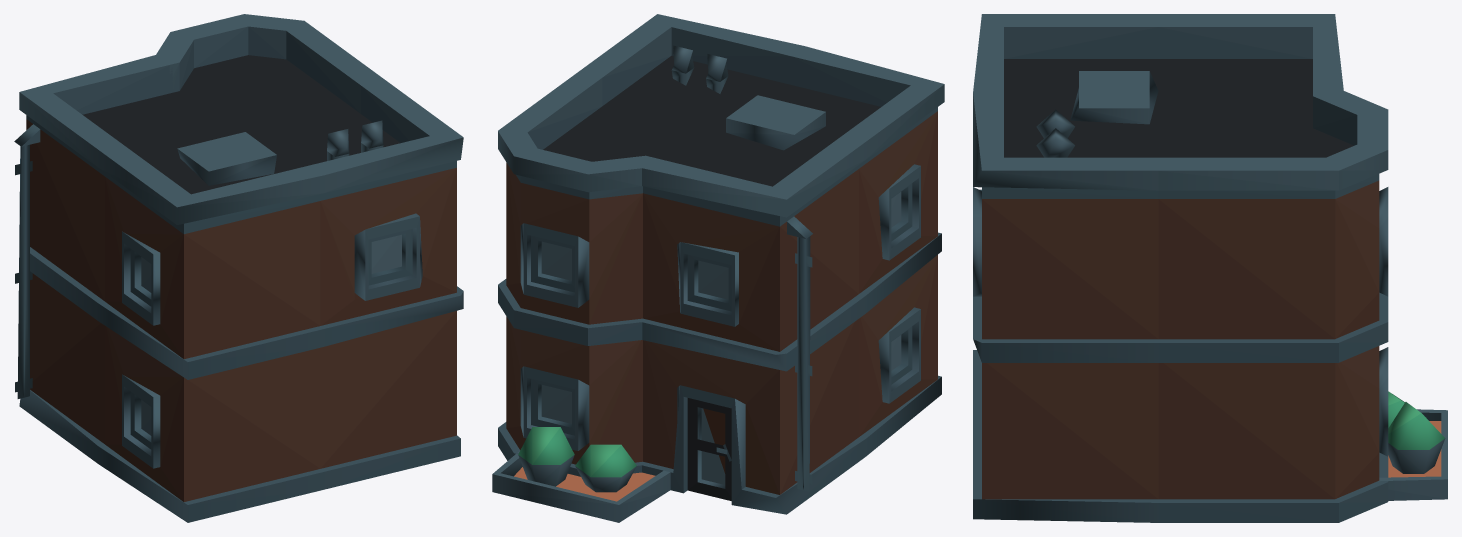
Rendered from building-c.low.5589572c.glb.
3 views of the same model, side by side, from view 1: azimuth 30°, elevation 25°; view 2: azimuth 150°, elevation 25°; view 3: azimuth 270°, elevation 25° (orthographic). The views are drawn at different scales.
Visible parts, largest first — view 1: building-c; view 2: building-c; view 3: building-c.
Boxes of the visible parts, x1,y1,x2,y2 form: building-c: (14, 14, 463, 522); building-c: (492, 14, 944, 522); building-c: (973, 14, 1447, 522).
Size of the model in its own units: 10.6 by 10.72 by 12.9.
